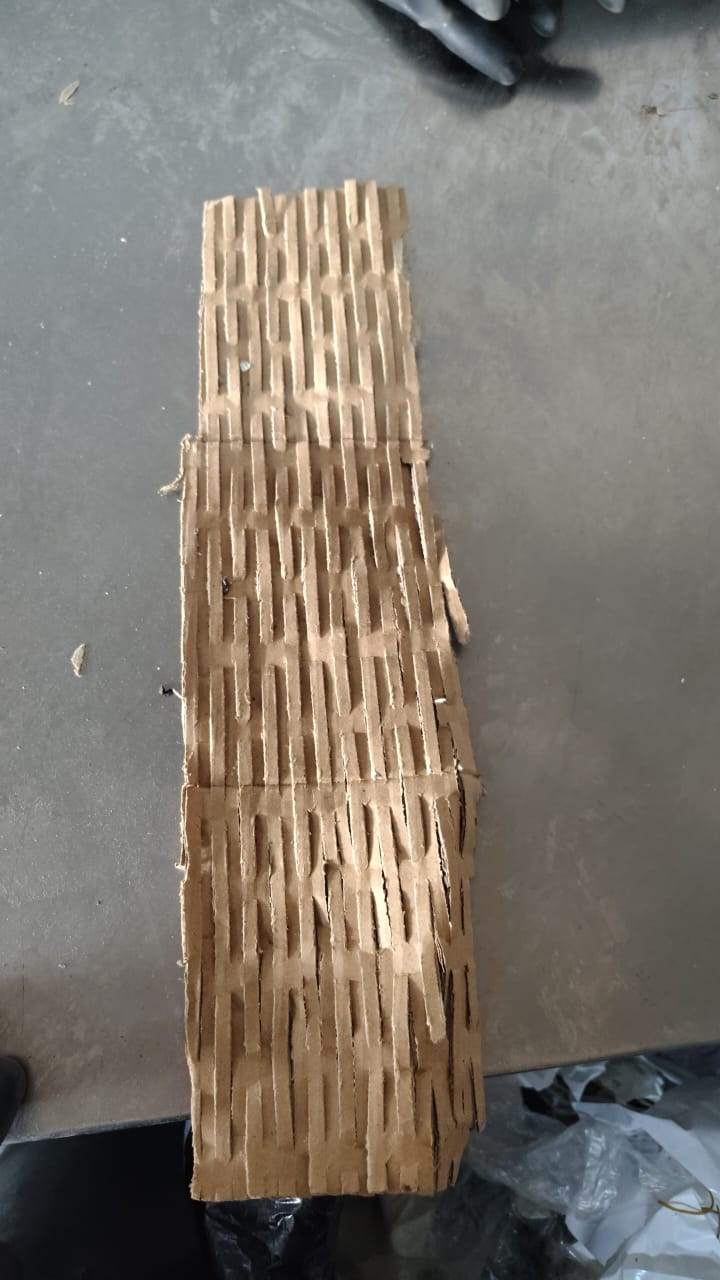Carton: (182, 177, 482, 1198)
